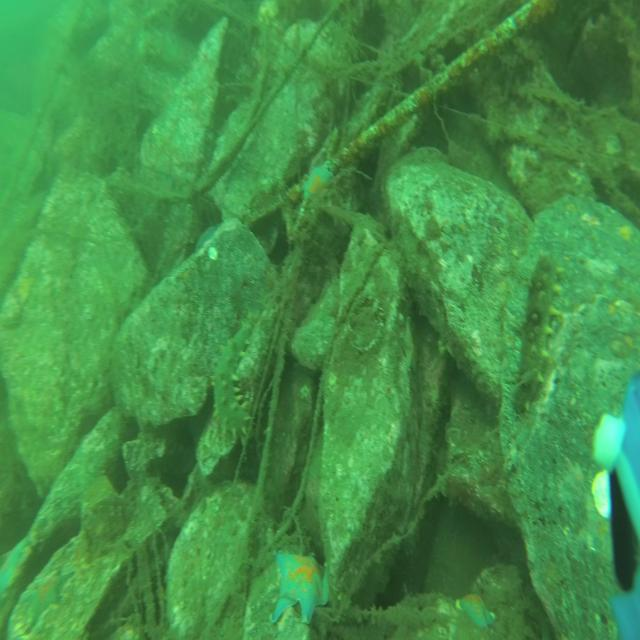holothurian: (510, 246, 564, 419), (207, 318, 257, 447)
starfish: (268, 545, 331, 629), (23, 564, 73, 632), (2, 535, 31, 604), (455, 591, 498, 633), (300, 161, 334, 204)
